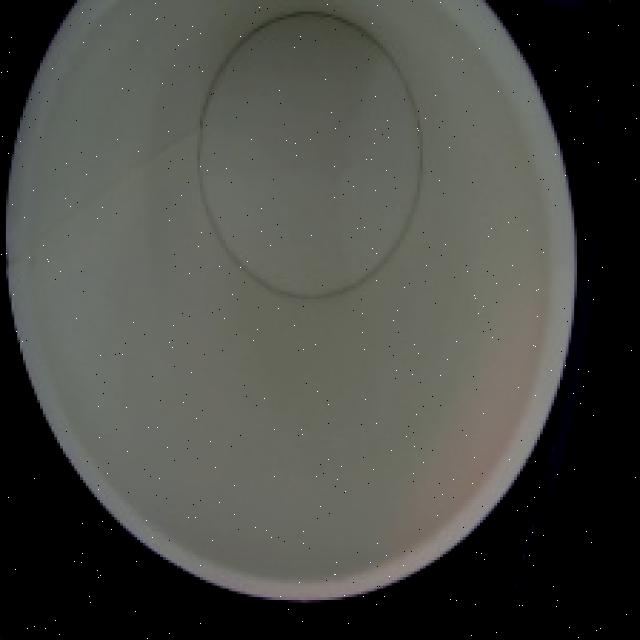cups: (0, 0, 583, 620)
